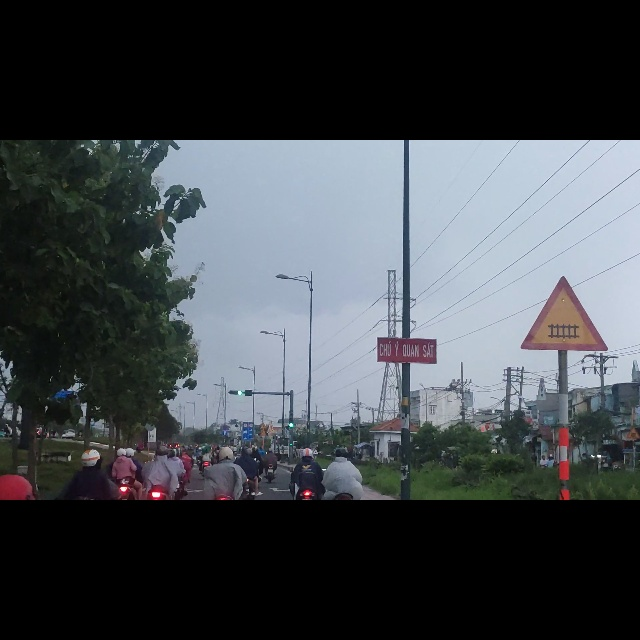bien_chi_dan: (520, 239, 608, 377), (222, 516, 228, 525)
